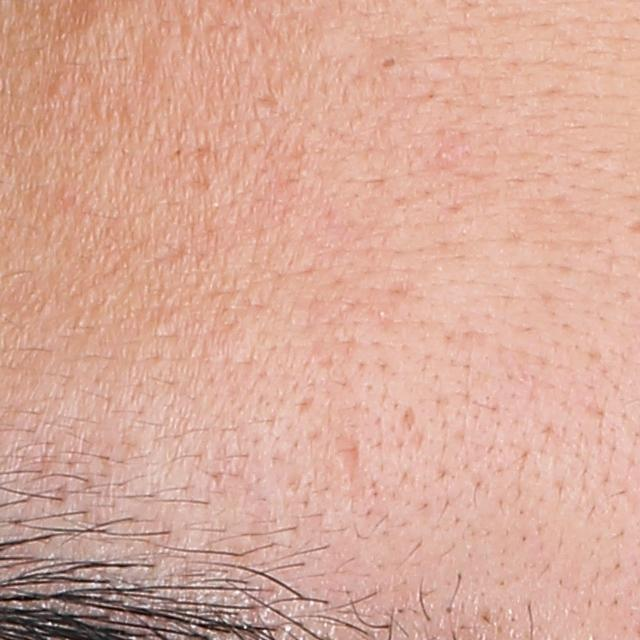atrophic_scar: (327, 427, 369, 490)
comedo: (376, 53, 401, 70), (436, 148, 450, 165)
